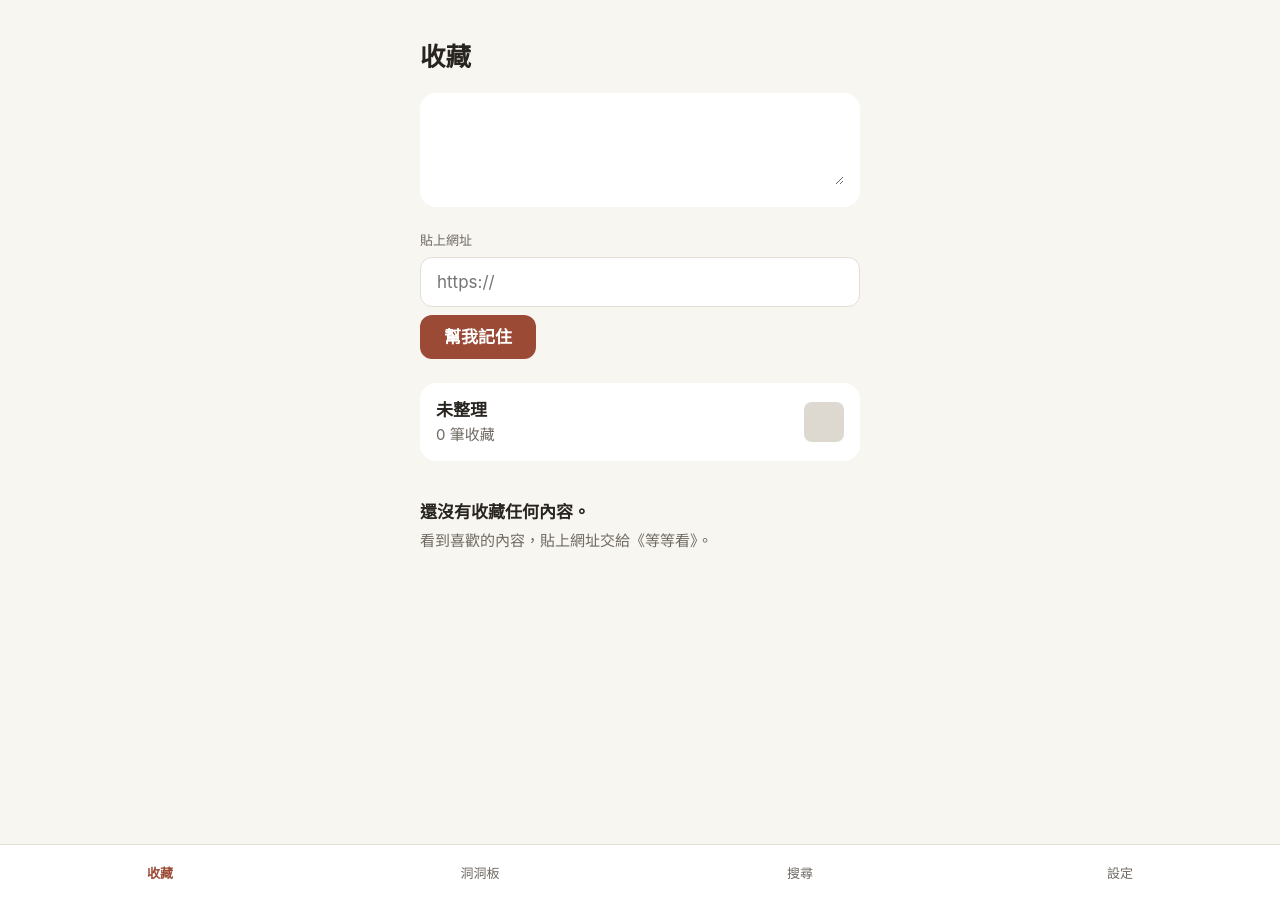
it: Category collection list flow › navigates from a Category Preview Card into that category, showing the compact empty state when it has no bookmarks
Expected: the text "0 筆收藏" is shown, left=436, top=425, right=495, bottom=445
Step 1. Click the link "未整理 0 筆收藏" → {"x": 462, "y": 410}, box left=420, top=383, right=860, bottom=461
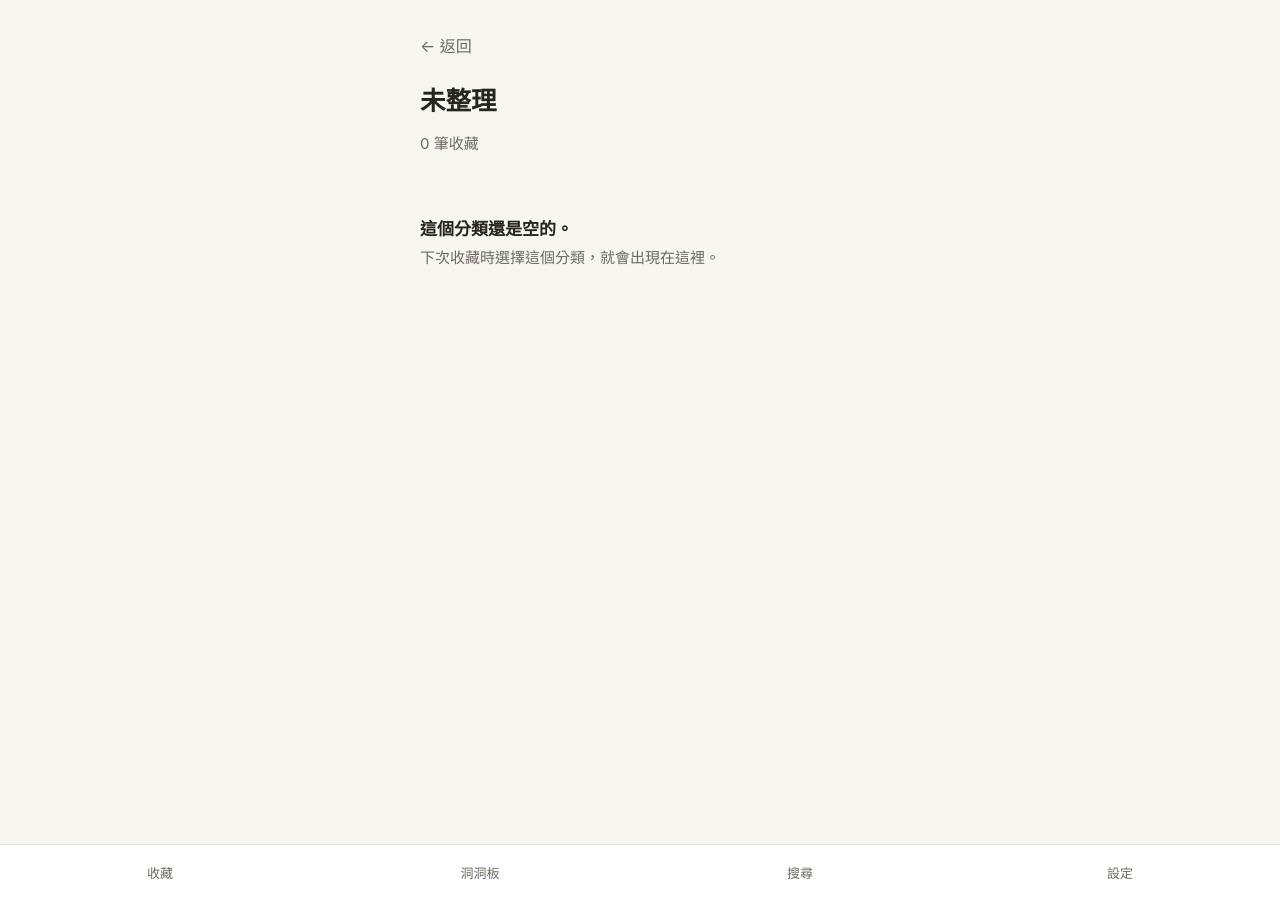
Now the heading "未整理" is shown, box left=420, top=85, right=496, bottom=116
Now the text "這個分類還是空的。" is shown, box left=420, top=218, right=573, bottom=240
